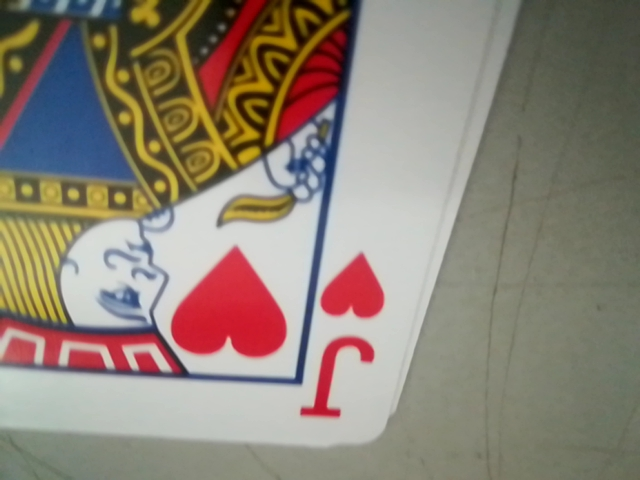hx j: (300, 253, 385, 424)
